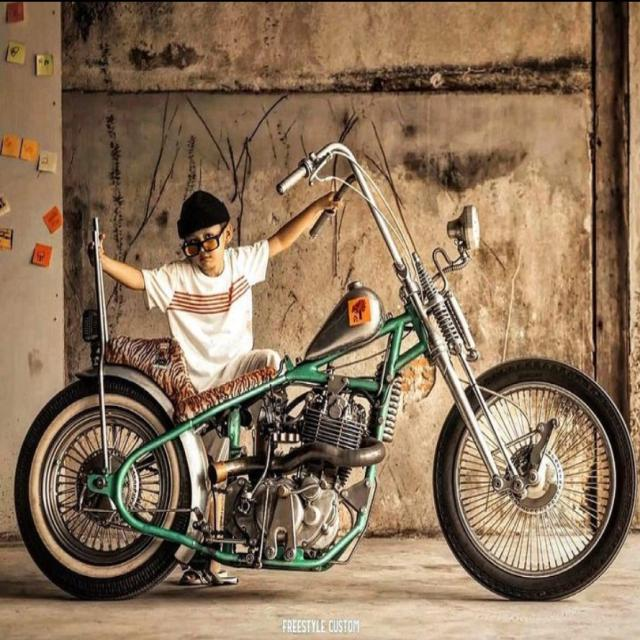illegal_helmet: (174, 187, 235, 273)
